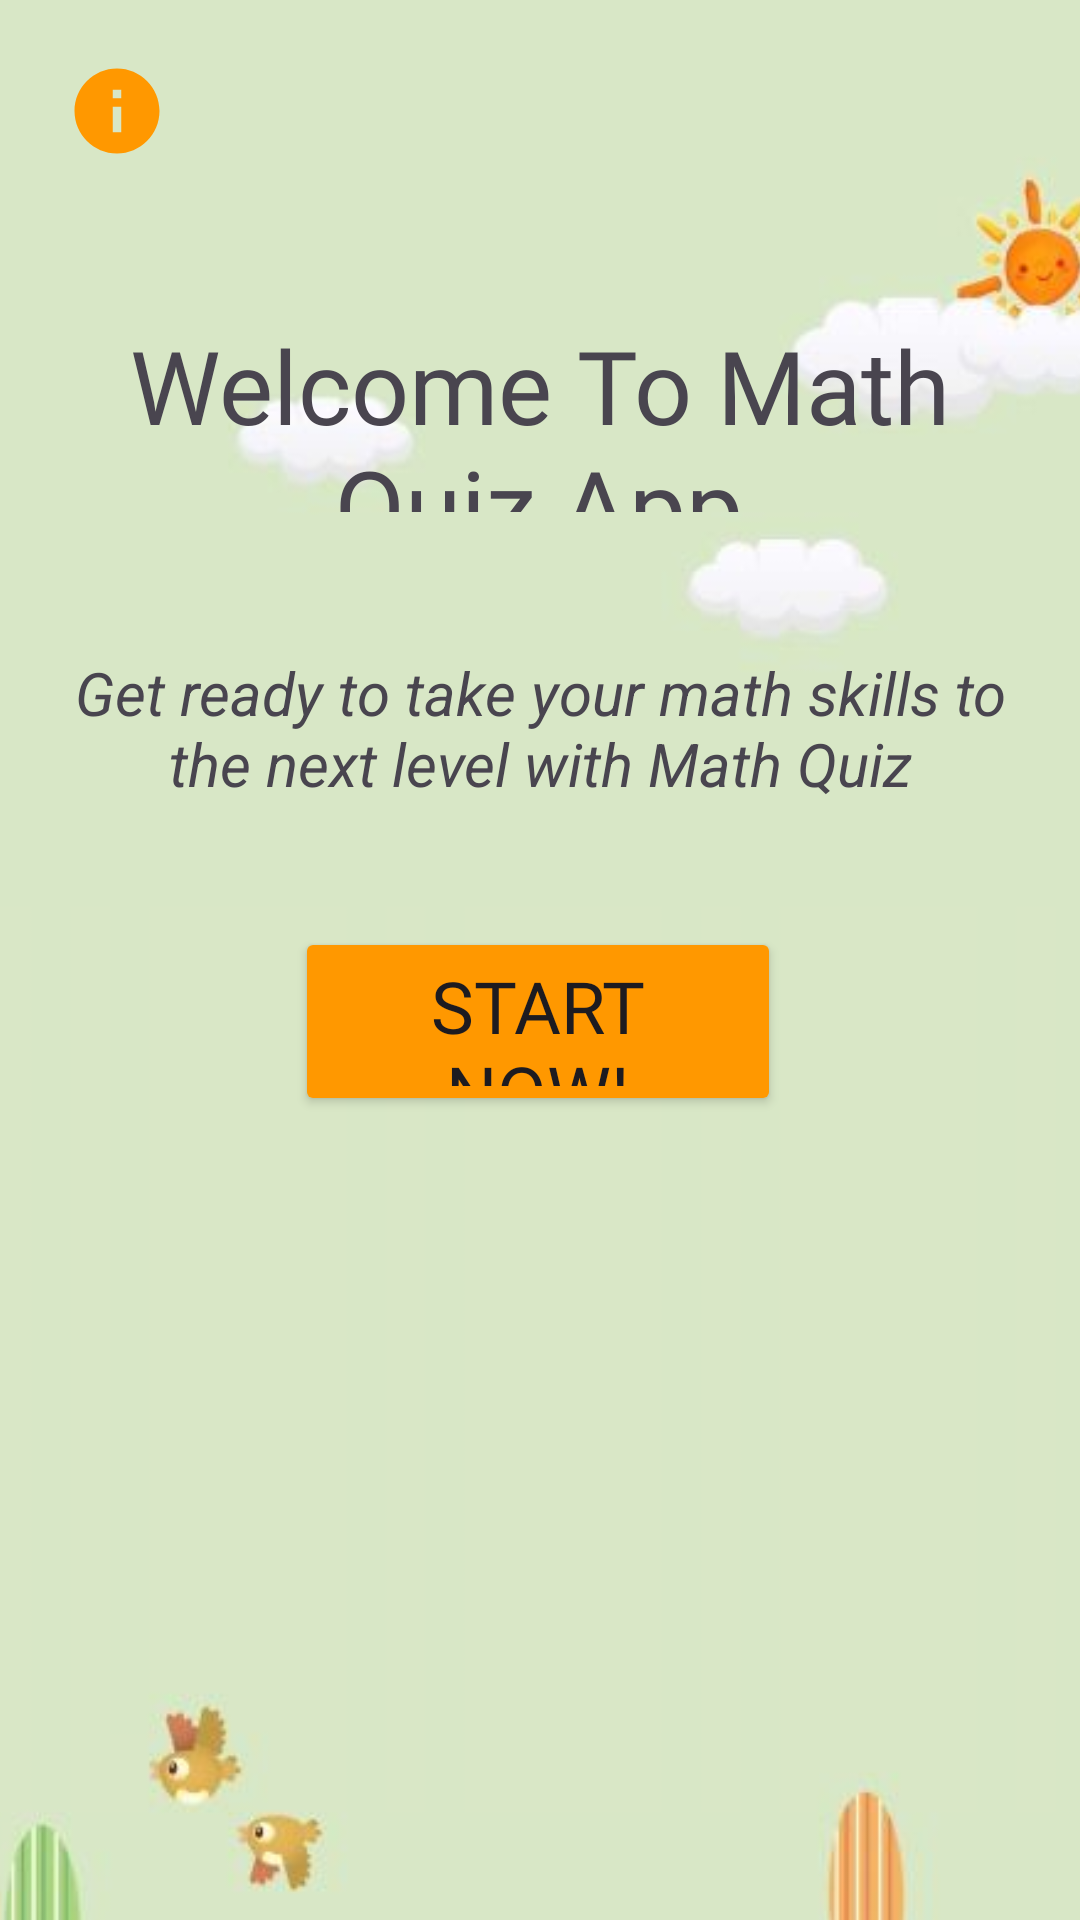

Screen size 1080px x 1920px. Icon name, then its box in pixels as (x1, y1, x2, y2):
Just Information Dialog Button: (74, 68, 160, 154)
